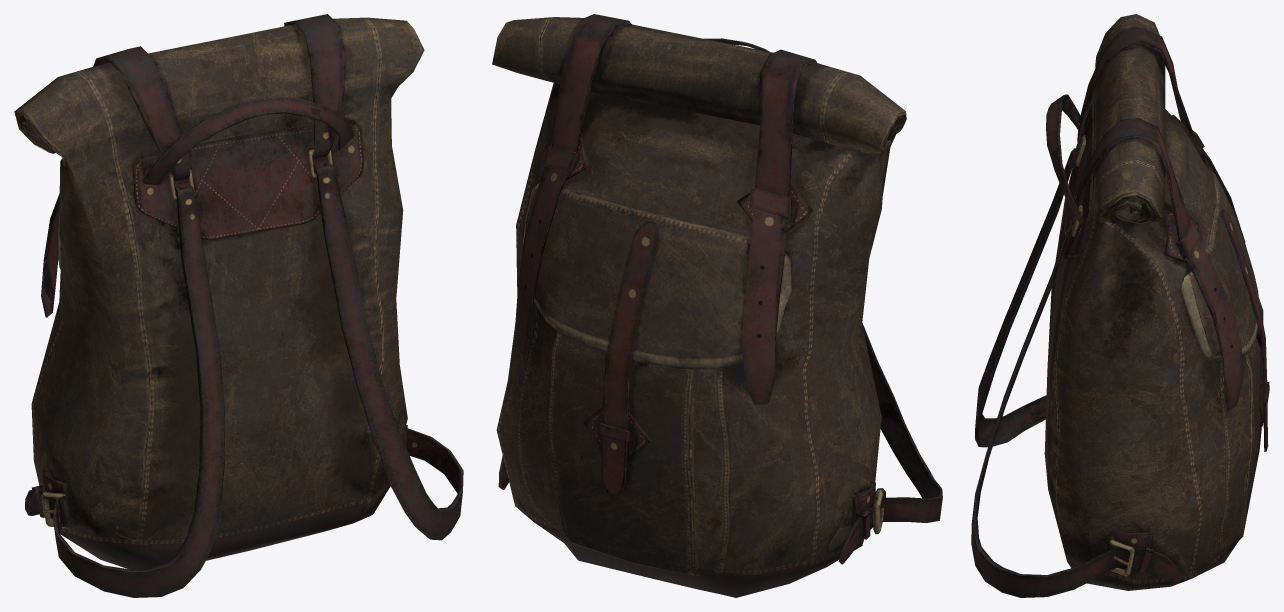
File: backpack.glb
3 renders of one model, left to right at view 1: azimuth 30°, elevation 25°; view 2: azimuth 150°, elevation 25°; view 3: azimuth 270°, elevation 25°, orthographic. The views are drawn at different scales.
Parts seen in each view (by area): view 1: bag, strap_r1, strap_r, back_leather, top_strap; view 2: bag, front_flap, strap_r1, strap_r, leather_piece_03, leather_piece_01; view 3: bag, strap_r, strap_r1, front_flap, back_leather, top_strap, leather_piece_02.
Boxes of the visible parts, bbox=[...] form: bag: bbox=[14, 17, 424, 569]; strap_r1: bbox=[25, 46, 224, 597]; strap_r: bbox=[284, 14, 463, 540]; back_leather: bbox=[132, 119, 363, 240]; top_strap: bbox=[143, 97, 354, 185]; bag: bbox=[492, 17, 906, 597]; front_flap: bbox=[523, 183, 791, 495]; strap_r1: bbox=[741, 49, 942, 564]; strap_r: bbox=[498, 14, 631, 489]; leather_piece_03: bbox=[583, 406, 651, 459]; leather_piece_01: bbox=[737, 182, 812, 230]; bag: bbox=[1044, 14, 1263, 590]; strap_r: bbox=[971, 118, 1242, 597]; strap_r1: bbox=[975, 27, 1245, 447]; front_flap: bbox=[1181, 166, 1269, 451]; back_leather: bbox=[1063, 104, 1093, 258]; top_strap: bbox=[1046, 94, 1084, 224]; leather_piece_02: bbox=[1163, 209, 1199, 263].
Size of the model in its own units: 102 by 125 by 72.54.
1 material, 1 textured.
